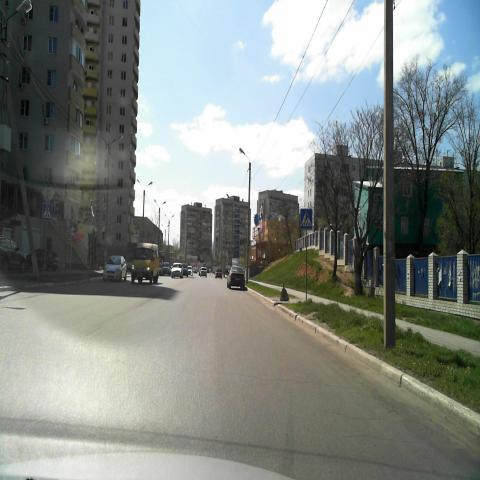5_19_1: (300, 208, 312, 230), (42, 202, 52, 221)
